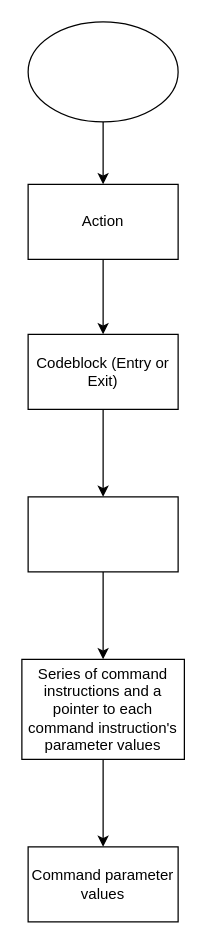
Some shapes in this 206 by 944 pixel diagram are drawn without their labels. Each missing label, with the centre of its shape:
"Pointer to where commands are located" goes at [102,534].
"Start" goes at [102,71].
